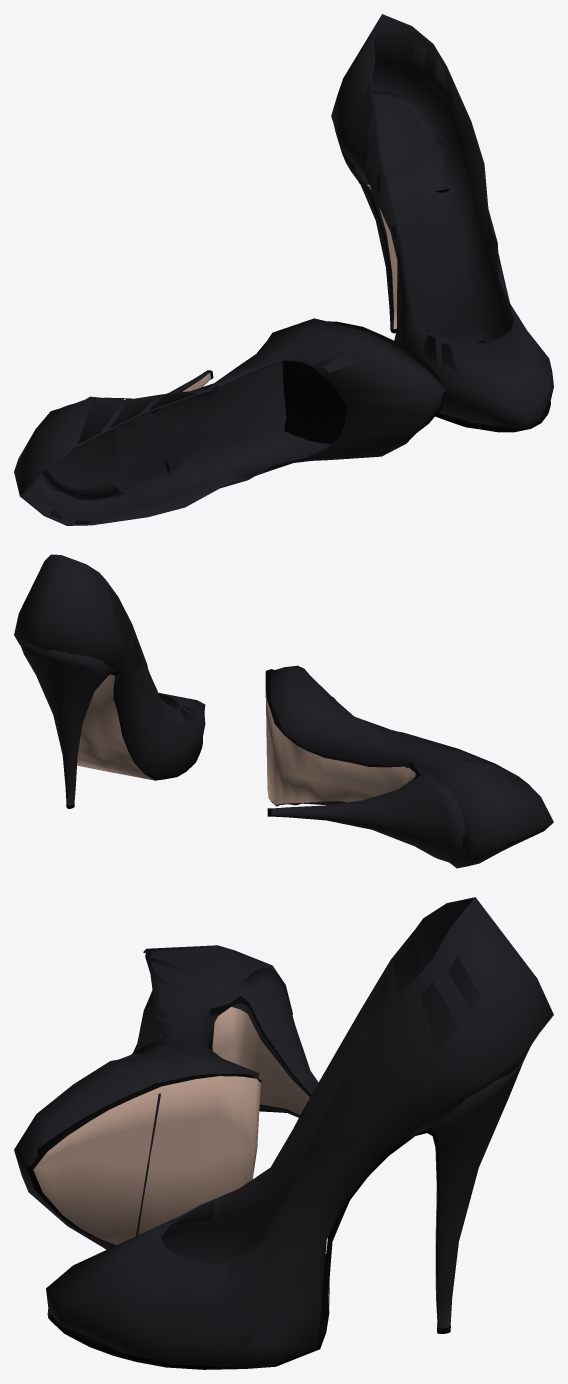
File: Basic Heels.fbx
3 views of the same model, one above another, from view 1: azimuth 30°, elevation 25°; view 2: azimuth 150°, elevation 25°; view 3: azimuth 270°, elevation 25° (orthographic). The views are drawn at different scales.
Visible parts, largest first — view 1: Pump.001; view 2: Pump.001; view 3: Pump.001.
Boxes of the visible parts, box(x1,y1,x2,y2) form: Pump.001: box(14, 14, 553, 525); Pump.001: box(14, 554, 553, 868); Pump.001: box(14, 897, 553, 1369).
Bounding box in the file's own units: 149 × 91.52 × 93.06.
